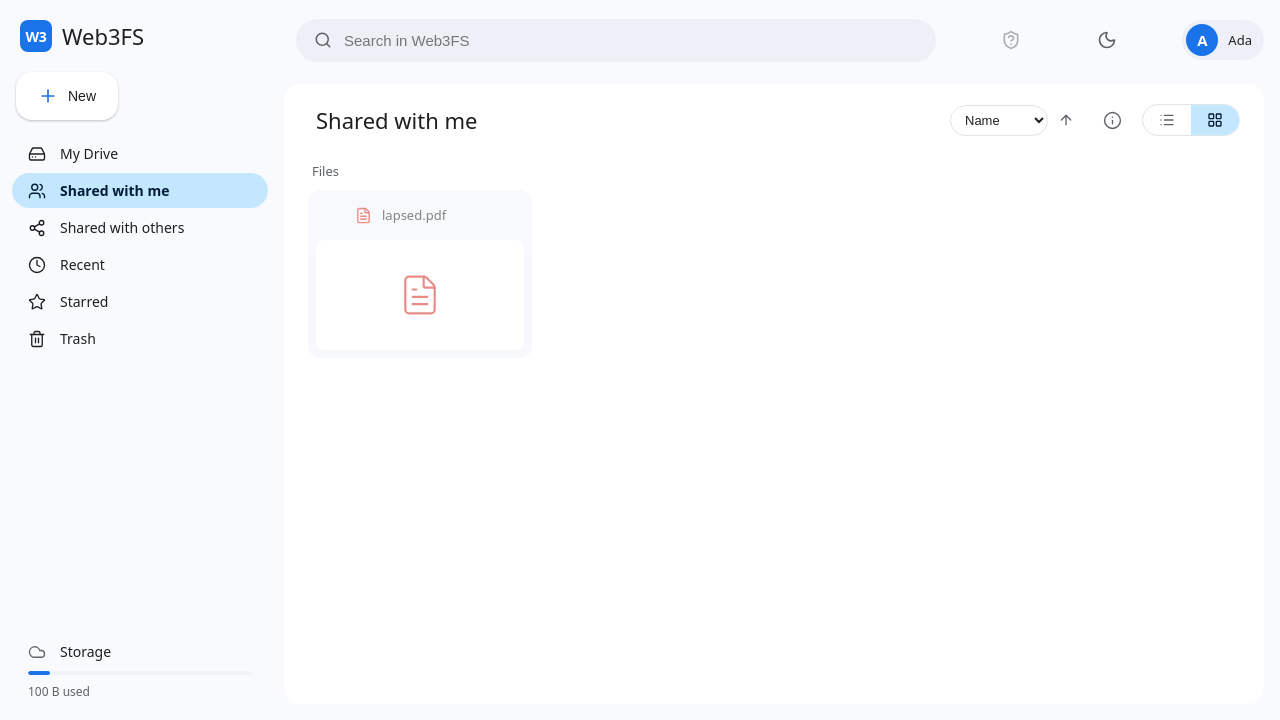
a declined request says so and still allows asking again
This screenshot has width=1280, height=720.
Click the element showing "lapsed.pdf" at (420, 274), box x1=308 y1=190 x2=532 y2=358
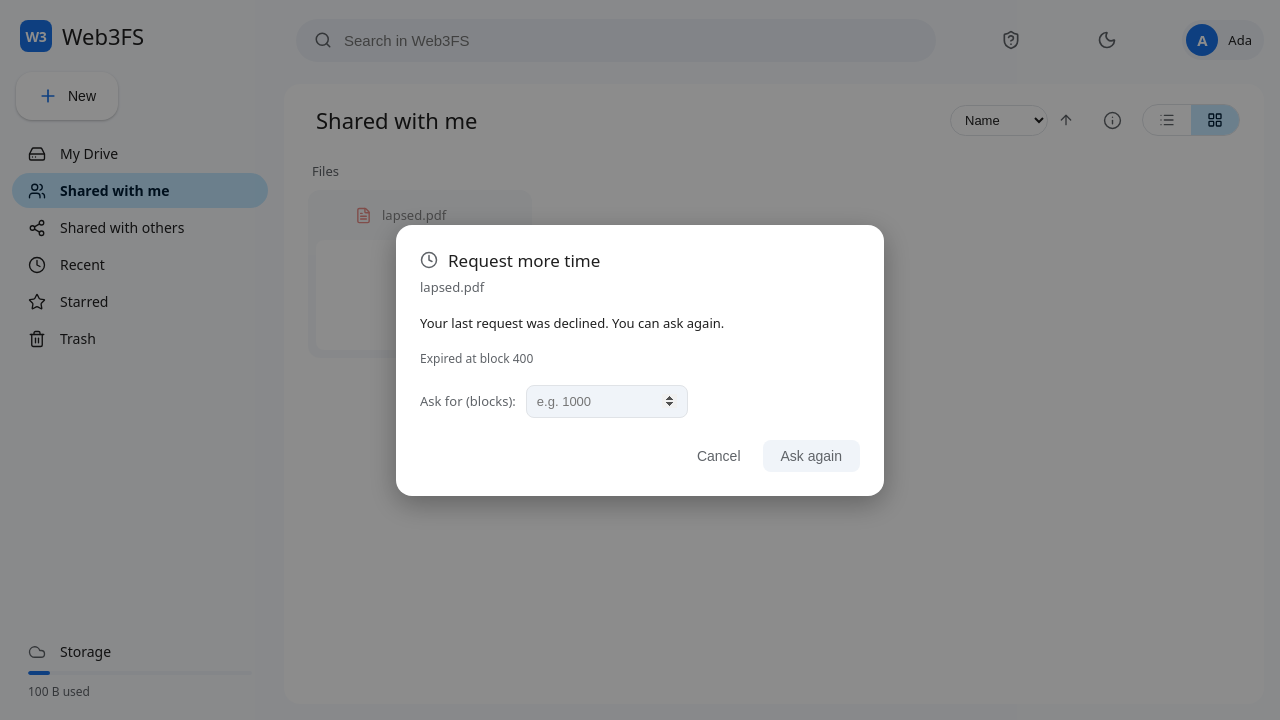
Result: the text "Your last request was declined. You can ask again." is shown at x1=420 y1=314 x2=724 y2=332
Result: the button "Ask again" is shown at x1=762 y1=440 x2=860 y2=472
